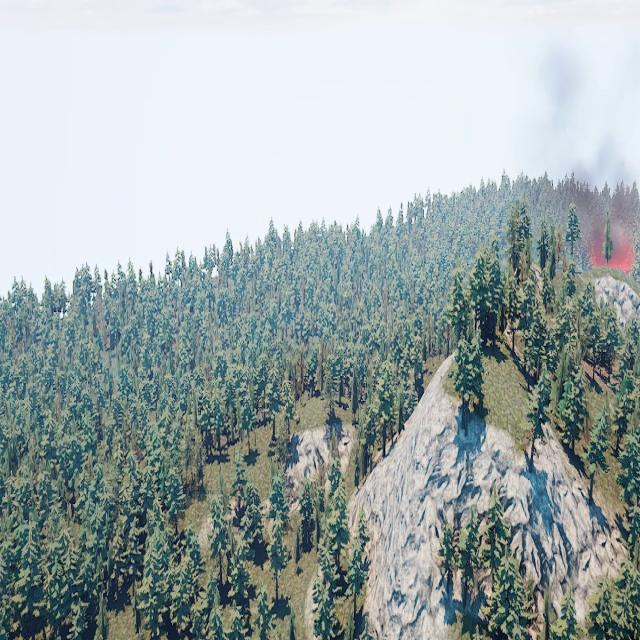smoke: (542, 32, 636, 276)
